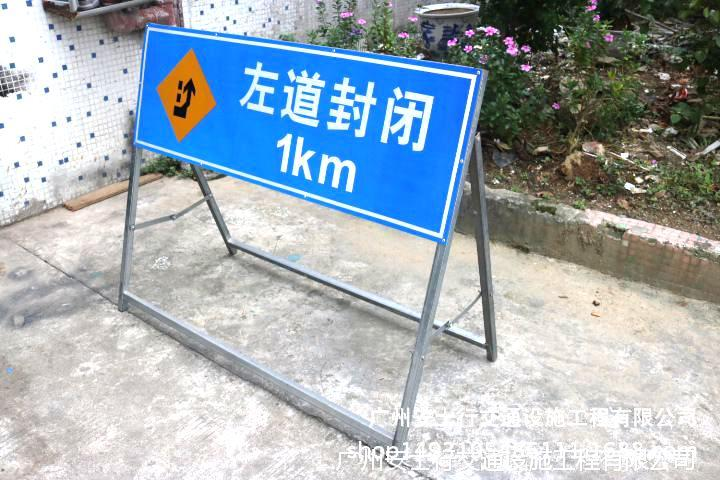sign: (126, 27, 462, 247)
